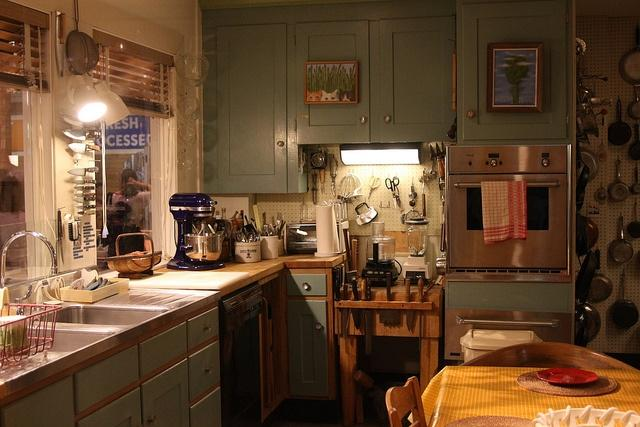Lemari: (292, 2, 569, 144), (200, 4, 298, 193)
